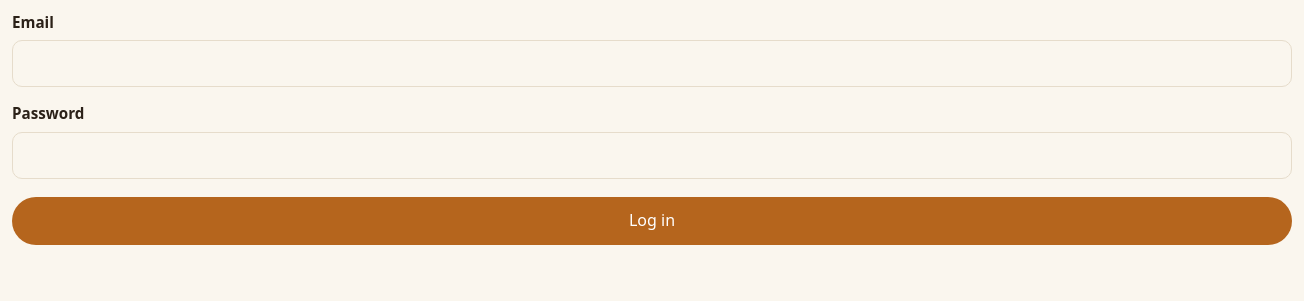
Test: login form server errors › explains when the server is not configured
Type "x@example.com" into the field labelled "Email" at (652,64), box [12,40,1292,87]
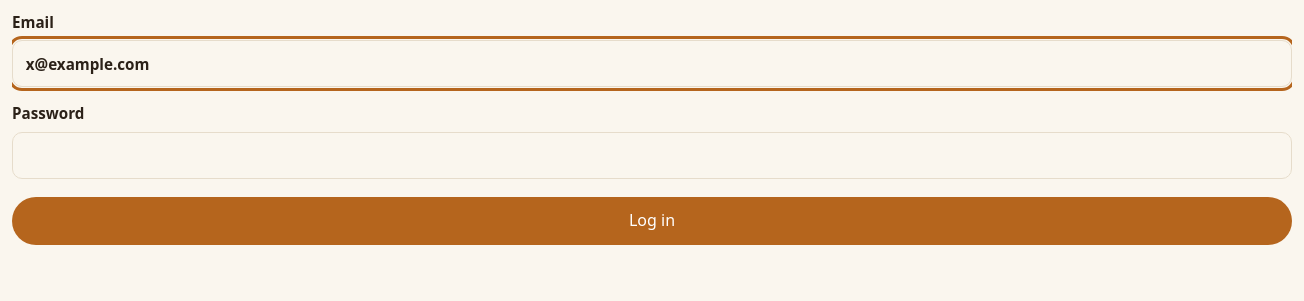
Type "pw" into the password field labelled "Password" at (652,155), box [12,132,1292,179]
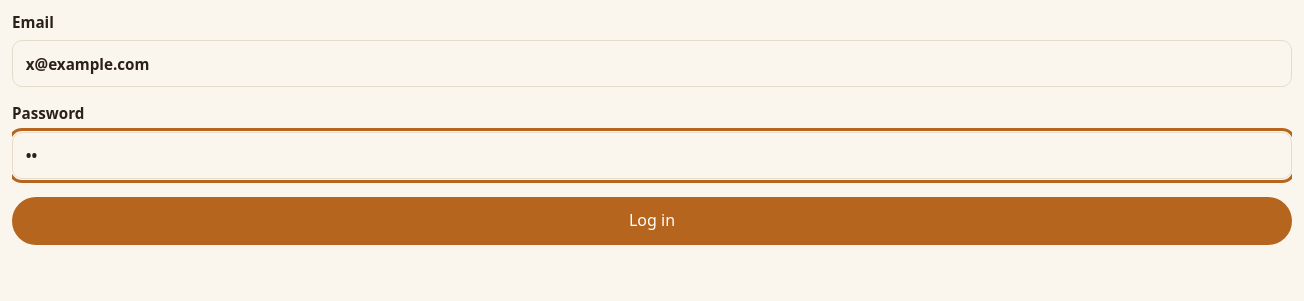
Click the button "Log in" at (652,221), box [12,197,1292,245]
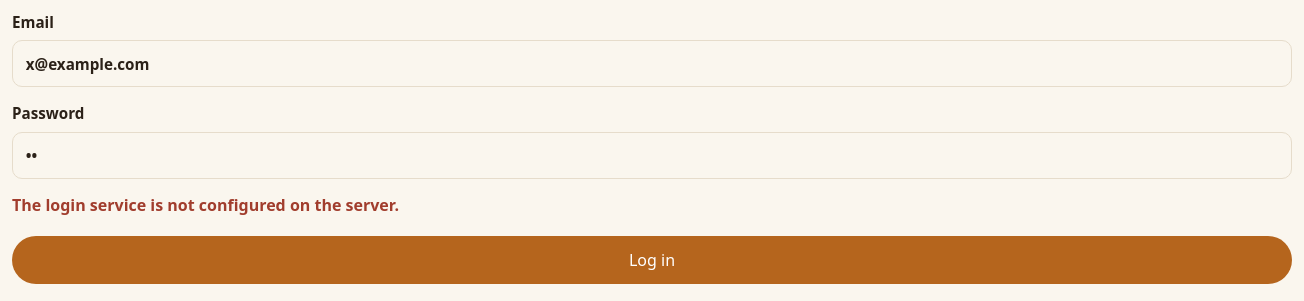
Check: the message reads "The login service is not configured on the server.", box [12,194,399,216]
